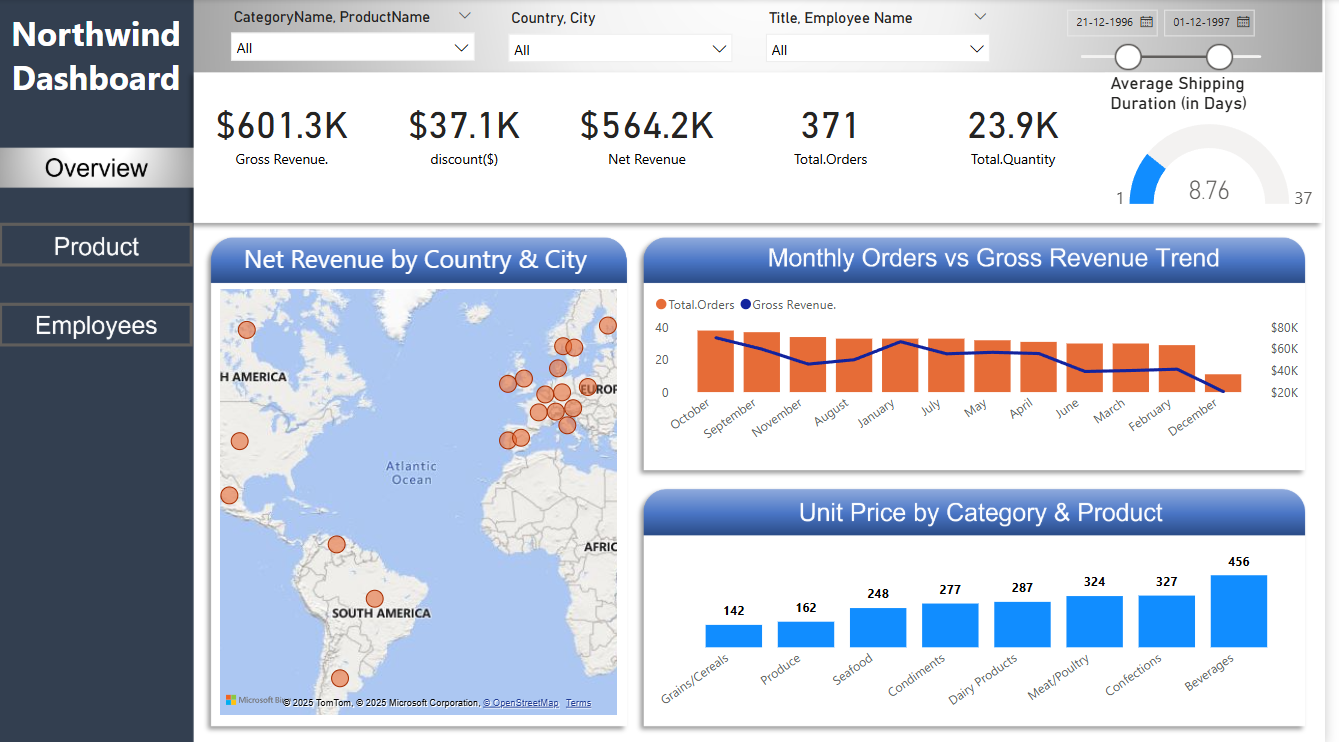

What the dashboard file says about the page in this screenshot:
{"tool":"powerbi","page":{"name":"Dashboard","canvas":[1280,720],"ordinal":0},"visuals":[{"type":"slicer","fields":{"Values":["Categories.CategoryName","Products.ProductName"]},"box":[214.1,4.1,255.2,64.5],"z":0},{"type":"slicer","fields":{"Values":["Customers.Country","Customers.City"]},"box":[481.4,4.8,236.5,59.1],"z":1000},{"type":"slicer","fields":{"Values":["Employees.Title","Employees.FullName"]},"box":[729.9,4.8,236.5,59.1],"z":2000},{"type":"slicer","fields":{"Values":["Orders.OrderDate"]},"box":[1018.2,0,220.8,71.2],"z":3000},{"type":"card","fields":{"Values":[" Measures.Gross Revenue."]},"box":[190.7,80,165,95],"z":4000},{"type":"map","fields":{"Category":["Orders.ShipCountry","Orders.ShipCity"]},"box":[208.7,275.1,393,421],"z":5000},{"type":"card","fields":{"Values":[" Measures.discount($)"]},"box":[367.1,80,165,95],"z":6000},{"type":"card","fields":{"Values":[" Measures.Net Revenue"]},"box":[543.4,80,165,95],"z":7000},{"type":"card","fields":{"Values":[" Measures.Total.Orders"]},"box":[719.7,80,165,95],"z":8000},{"type":"card","fields":{"Values":[" Measures.Total.Quantity"]},"box":[896.1,80,165,95],"z":9000},{"type":"lineClusteredColumnComboChart","fields":{"Category":["Date_Table.Month Name"],"Y":[" Measures.Total.Orders"],"Y2":[" Measures.Gross Revenue."]},"box":[628.6,275.1,631,172.5],"z":10000},{"type":"columnChart","fields":{"Category":["Categories.CategoryName","Products.ProductName"],"Y":["Products.UnitPrice"]},"box":[627.3,518.8,631,176.1],"z":11000},{"type":"gauge","title":"Average Shipping Duration (in Days)","fields":{"Y":["Orders.AVg.days.ship"],"MinValue":["Sum(Orders.AVg.days.ship)1"],"MaxValue":["Sum(Orders.AVg.days.ship)2"]},"box":[1067.7,71.2,209.9,139.9],"z":12000},{"type":"actionButton","box":[0,293.2,187,42.2],"z":13000},{"type":"actionButton","box":[0,216,187,42.2],"z":14000},{"type":"textbox","box":[200.3,229.2,403,45.8],"z":15000},{"type":"textbox","box":[0,6,187,124.3],"z":16000}]}

Visuals, with their boxes in screenshot pixels (x1, y1, x2, y2), scaled from the page's 1280x720 canvas onto the 1339x742 screenshot:
slicer - Categories.CategoryName x Products.ProductName: region(224, 4, 491, 71)
slicer - Customers.Country x Customers.City: region(504, 5, 751, 66)
slicer - Employees.Title x Employees.FullName: region(764, 5, 1011, 66)
slicer - Orders.OrderDate: region(1065, 0, 1296, 73)
card -  Measures.Gross Revenue.: region(199, 82, 372, 180)
map - Orders.ShipCountry x Orders.ShipCity: region(218, 284, 629, 717)
card -  Measures.discount($): region(384, 82, 557, 180)
card -  Measures.Net Revenue: region(568, 82, 741, 180)
card -  Measures.Total.Orders: region(753, 82, 925, 180)
card -  Measures.Total.Quantity: region(937, 82, 1110, 180)
lineClusteredColumnComboChart - Date_Table.Month Name x  Measures.Total.Orders: region(658, 284, 1318, 461)
columnChart - Categories.CategoryName x Products.ProductName: region(656, 535, 1316, 716)
"Average Shipping Duration (in Days)" gauge: region(1117, 73, 1336, 218)
actionButton: region(0, 302, 196, 346)
actionButton: region(0, 223, 196, 266)
textbox: region(210, 236, 631, 283)
textbox: region(0, 6, 196, 134)
